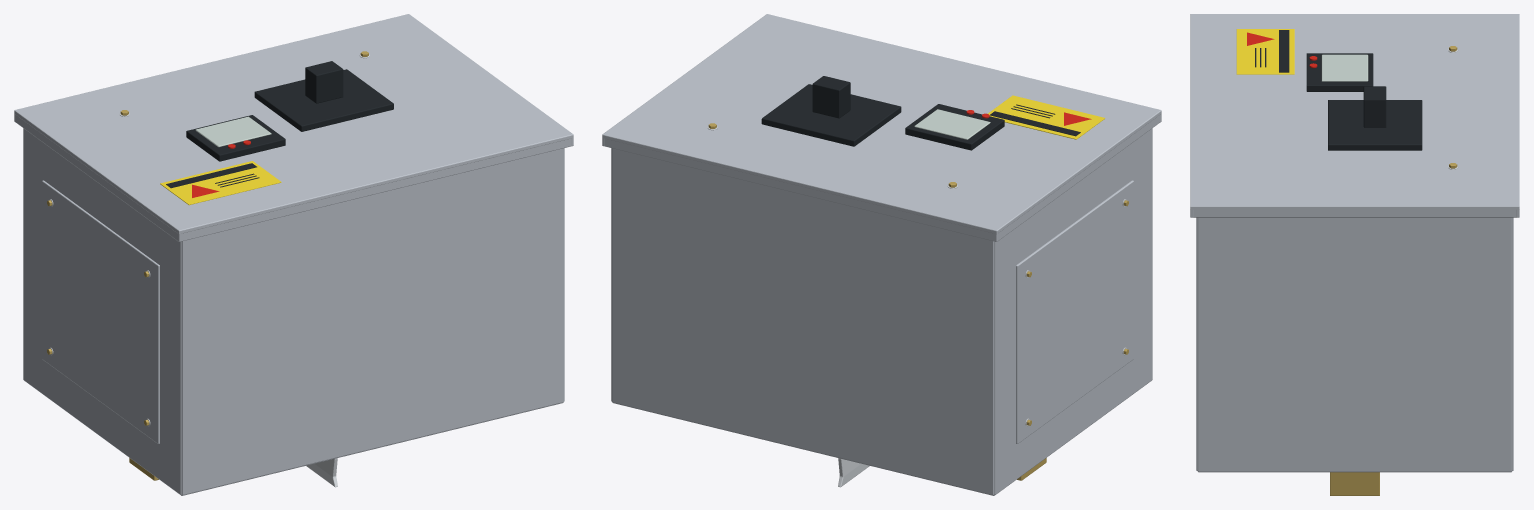
The model's file is tap-off-outlet-bottom.glb.
The picture shows the model from 3 angles, left to right: view 1: azimuth 30°, elevation 25°; view 2: azimuth 150°, elevation 25°; view 3: azimuth 270°, elevation 25°; orthographic projection.
Parts seen in each view (by area): view 1: Side sheet, Lid sheet, Gland plate, End sheet, Switch escutcheon, Lid long return, Yellow danger label, Display bezel, Black outlet control, Lid end return, Display face; view 2: Side sheet.001, Lid sheet, Gland plate, End sheet, Switch escutcheon, Lid long return.001, Yellow danger label, Display bezel, Black outlet control, Lid end return, Display face; view 3: End sheet.001, Lid sheet, Switch escutcheon, Lid end return.001, Yellow danger label, Display bezel, Display face, Earth return.001, Black outlet control, Rear mounting panel, Side sheet, Side sheet.001 (+1 smaller).
Part boxes in pixels (x1=…): Side sheet: x1=181, y1=148, x2=564, y2=495; Lid sheet: x1=14, y1=14, x2=573, y2=233; Gland plate: x1=42, y1=180, x2=159, y2=443; End sheet: x1=23, y1=128, x2=181, y2=494; Switch escutcheon: x1=254, y1=69, x2=393, y2=131; Lid long return: x1=177, y1=138, x2=571, y2=241; Yellow danger label: x1=160, y1=161, x2=281, y2=205; Display bezel: x1=186, y1=115, x2=285, y2=161; Black outlet control: x1=305, y1=61, x2=343, y2=103; Lid end return: x1=15, y1=115, x2=181, y2=241; Display face: x1=195, y1=116, x2=271, y2=147; Side sheet.001: x1=611, y1=148, x2=994, y2=495; Lid sheet: x1=602, y1=14, x2=1161, y2=233; Gland plate: x1=1016, y1=180, x2=1133, y2=443; End sheet: x1=994, y1=128, x2=1152, y2=494; Switch escutcheon: x1=761, y1=84, x2=901, y2=146; Lid long return.001: x1=604, y1=138, x2=998, y2=241; Yellow danger label: x1=988, y1=95, x2=1105, y2=139; Display bezel: x1=905, y1=104, x2=1004, y2=150; Black outlet control: x1=812, y1=76, x2=850, y2=118; Lid end return: x1=994, y1=115, x2=1160, y2=241; Display face: x1=914, y1=109, x2=990, y2=139; End sheet.001: x1=1197, y1=217, x2=1512, y2=471; Lid sheet: x1=1190, y1=14, x2=1519, y2=209; Switch escutcheon: x1=1328, y1=100, x2=1422, y2=150; Lid end return.001: x1=1193, y1=209, x2=1516, y2=217; Yellow danger label: x1=1236, y1=29, x2=1294, y2=74; Display bezel: x1=1306, y1=53, x2=1373, y2=91; Display face: x1=1321, y1=54, x2=1368, y2=81; Earth return.001: x1=1330, y1=472, x2=1379, y2=495; Black outlet control: x1=1363, y1=86, x2=1386, y2=127; Rear mounting panel: x1=1197, y1=471, x2=1512, y2=472; Side sheet: x1=1196, y1=217, x2=1197, y2=470; Side sheet.001: x1=1512, y1=217, x2=1513, y2=470.
Size of the model in its own units: 0.362 by 0.3245 by 0.262.
